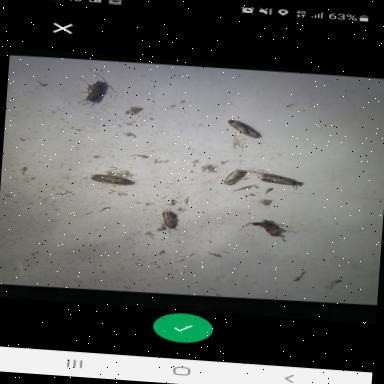pbw: (76, 70, 116, 110), (248, 216, 298, 242), (224, 118, 262, 138), (158, 206, 184, 235), (258, 172, 304, 188), (88, 172, 136, 186), (220, 167, 246, 187)
